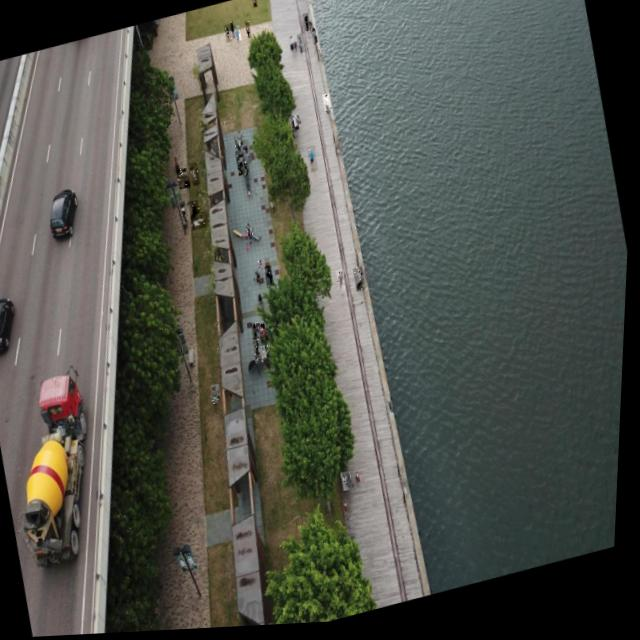Person: (191, 213, 212, 232), (307, 148, 321, 176), (253, 339, 267, 366), (354, 270, 369, 295), (177, 169, 192, 192), (337, 272, 350, 298), (236, 155, 249, 178), (344, 474, 358, 495), (190, 164, 202, 188), (265, 267, 277, 290), (260, 325, 272, 347), (234, 135, 245, 158), (322, 96, 334, 116), (242, 146, 253, 167), (301, 15, 312, 35), (223, 25, 234, 45), (180, 201, 190, 223), (246, 223, 255, 247), (253, 324, 263, 343), (192, 201, 203, 218), (296, 36, 305, 56), (228, 22, 237, 41), (270, 199, 280, 216), (258, 260, 268, 277), (288, 39, 297, 57), (233, 28, 242, 44), (262, 347, 271, 363), (257, 322, 265, 340), (291, 117, 300, 133), (244, 23, 252, 40), (214, 386, 224, 399), (310, 30, 318, 46), (293, 116, 302, 130), (213, 393, 222, 406), (256, 271, 264, 285), (238, 129, 244, 141), (251, 0, 258, 10), (243, 168, 250, 178), (266, 343, 272, 353), (251, 226, 255, 237)
